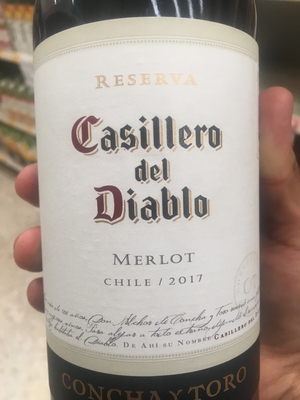casillero del diablo merlot: (31, 1, 264, 400)
